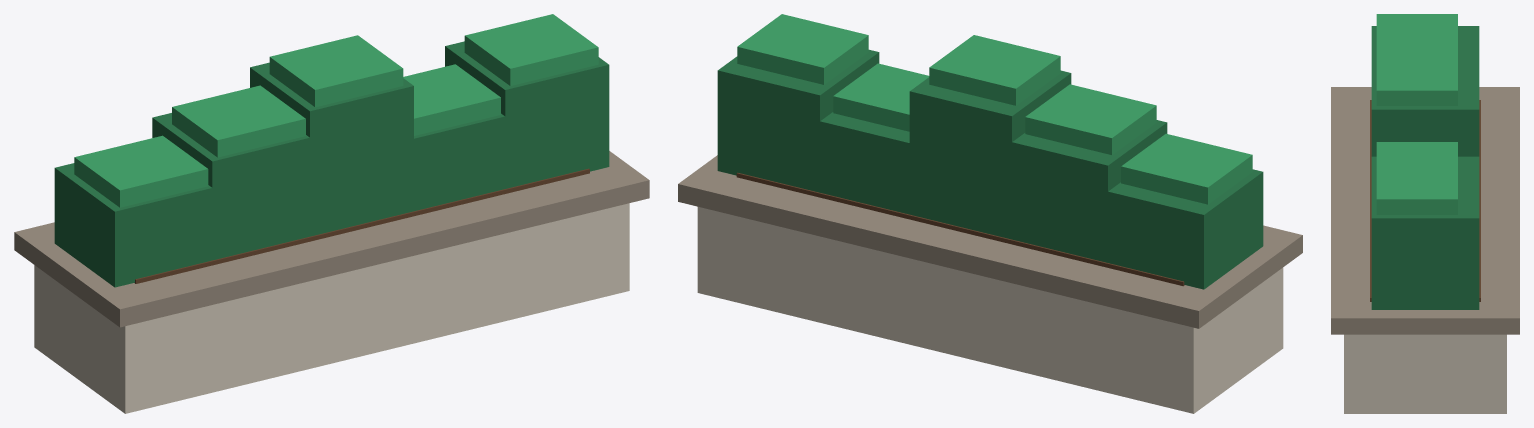
Rendered from cittaFioriera.glb.
The picture shows the model from 3 angles, left to right: view 1: azimuth 30°, elevation 25°; view 2: azimuth 150°, elevation 25°; view 3: azimuth 270°, elevation 25°; orthographic projection. The views are drawn at different scales.
Visible parts, largest first — view 1: cittaFioriera_leafDark, cittaFioriera_concrete, cittaFioriera_leafMid, cittaFioriera_concreteDark, cittaFioriera_bark; view 2: cittaFioriera_leafDark, cittaFioriera_concrete, cittaFioriera_leafMid, cittaFioriera_concreteDark, cittaFioriera_bark; view 3: cittaFioriera_concreteDark, cittaFioriera_leafDark, cittaFioriera_leafMid, cittaFioriera_concrete, cittaFioriera_bark.
Boxes of the visible parts, x1,y1,x2,y2 form: cittaFioriera_leafDark: (54,41,609,287); cittaFioriera_concrete: (34,203,629,413); cittaFioriera_leafMid: (74,14,598,207); cittaFioriera_concreteDark: (14,151,649,327); cittaFioriera_bark: (134,168,589,283); cittaFioriera_leafDark: (717,49,1263,289); cittaFioriera_concrete: (697,206,1283,413); cittaFioriera_leafMid: (737,14,1252,204); cittaFioriera_concreteDark: (678,155,1302,328); cittaFioriera_bark: (736,172,1184,286); cittaFioriera_concreteDark: (1331,87,1519,334); cittaFioriera_leafDark: (1371,26,1479,309); cittaFioriera_leafMid: (1376,14,1457,214); cittaFioriera_concrete: (1344,334,1506,413); cittaFioriera_bark: (1370,100,1480,301).
Bounding box in the file's own units: 3.36 × 1.58 × 1.16.
